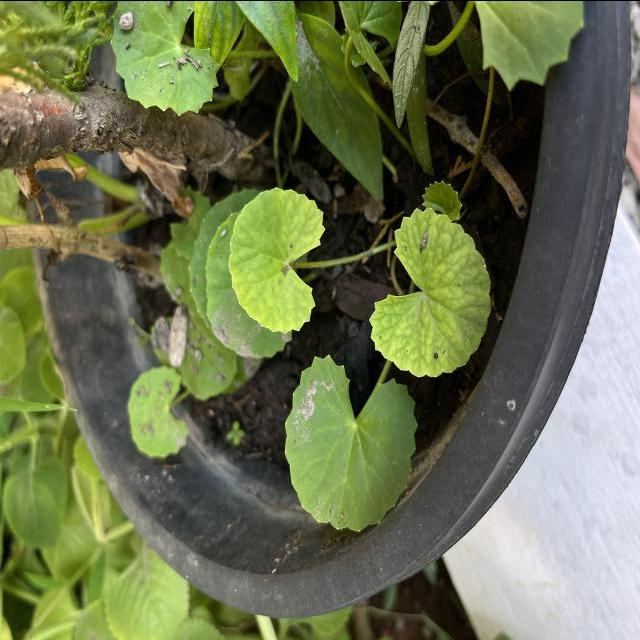Centella asiatica: (280, 349, 422, 535), (366, 203, 496, 380), (225, 184, 330, 336)
